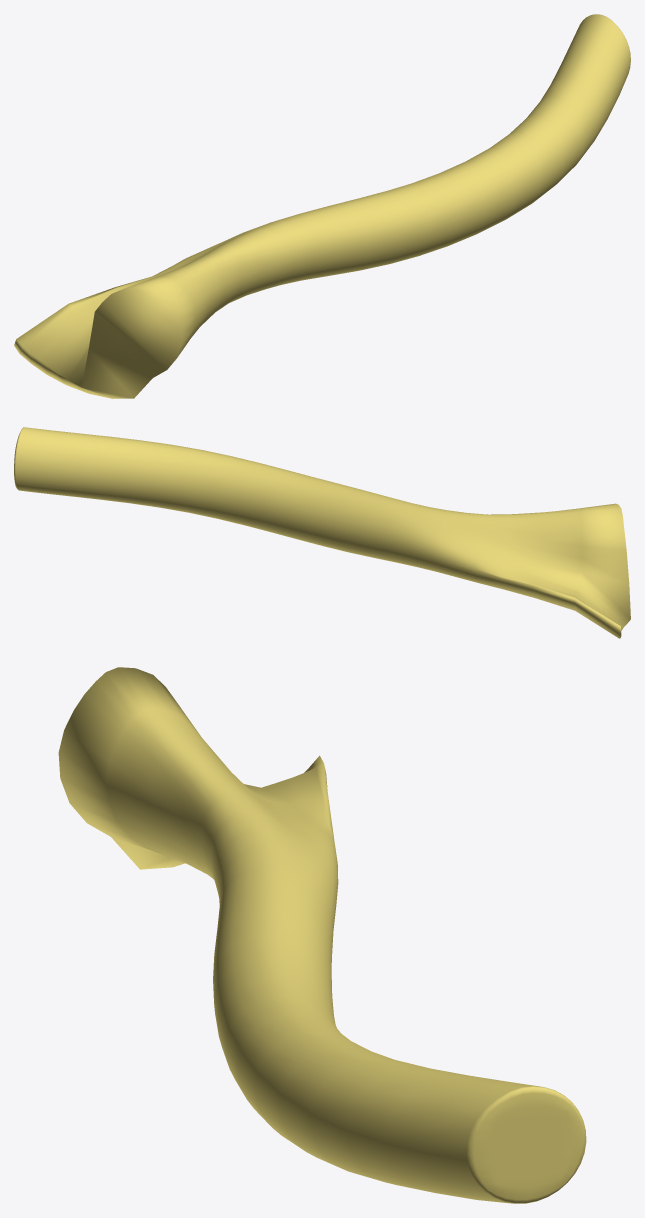
File: cochlear-nerve.glb
The picture shows the model from 3 angles, top to bottom: view 1: azimuth 30°, elevation 25°; view 2: azimuth 150°, elevation 25°; view 3: azimuth 270°, elevation 25°; orthographic projection. The views are drawn at different scales.
Visible parts, largest first — view 1: Cochlear nerve; view 2: Cochlear nerve; view 3: Cochlear nerve.
Part boxes in pixels (box(x1,y1,x2,y2)): Cochlear nerve: box(14, 14, 630, 398); Cochlear nerve: box(14, 427, 630, 638); Cochlear nerve: box(58, 667, 586, 1203).
Bounding box in the file's own units: 0.0217 × 0.00505 × 0.00891.
